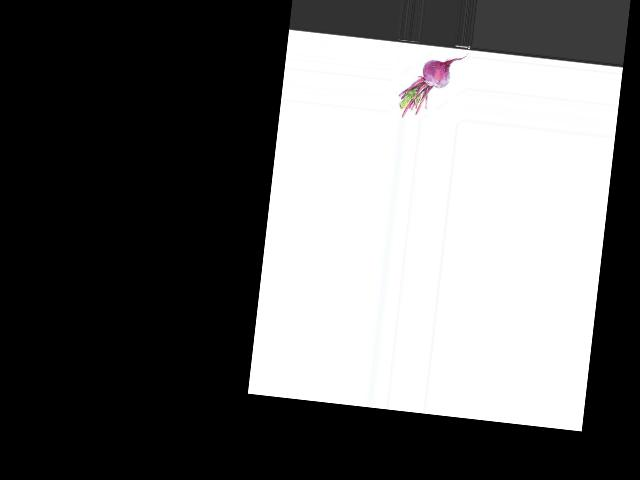beet: (396, 46, 468, 124)
